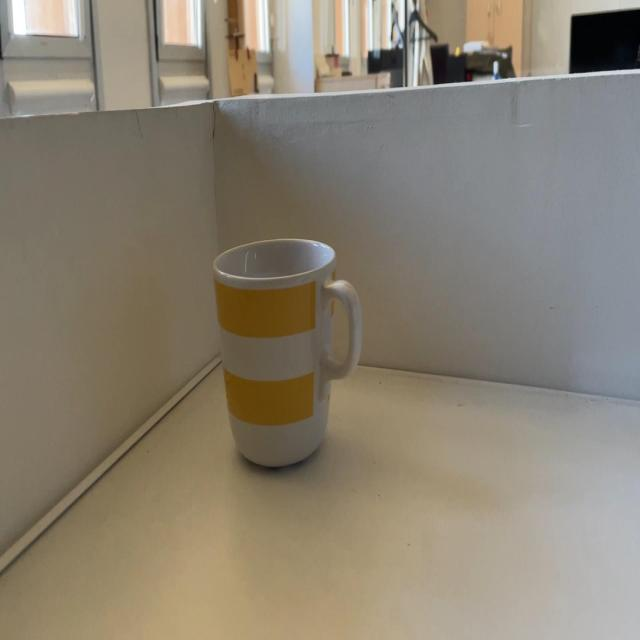cup: (208, 232, 373, 471)
